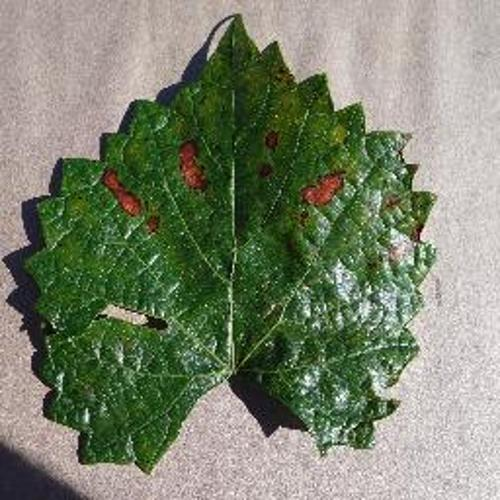Grape: (27, 18, 436, 472)
